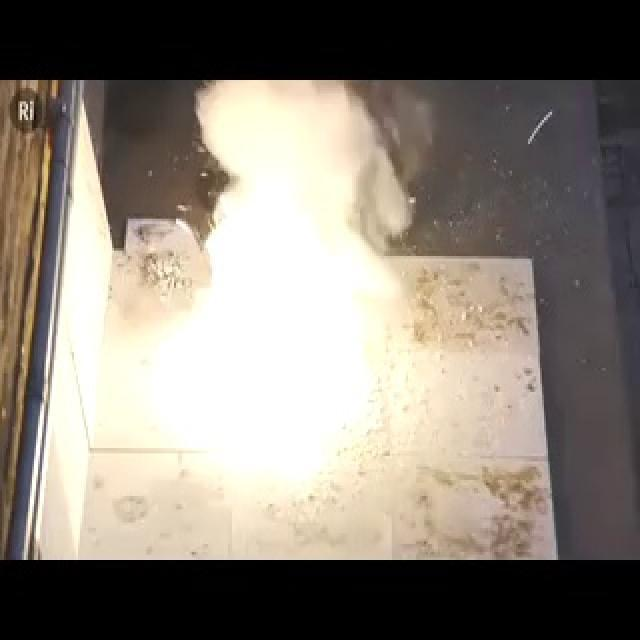fire: (161, 168, 469, 491)
